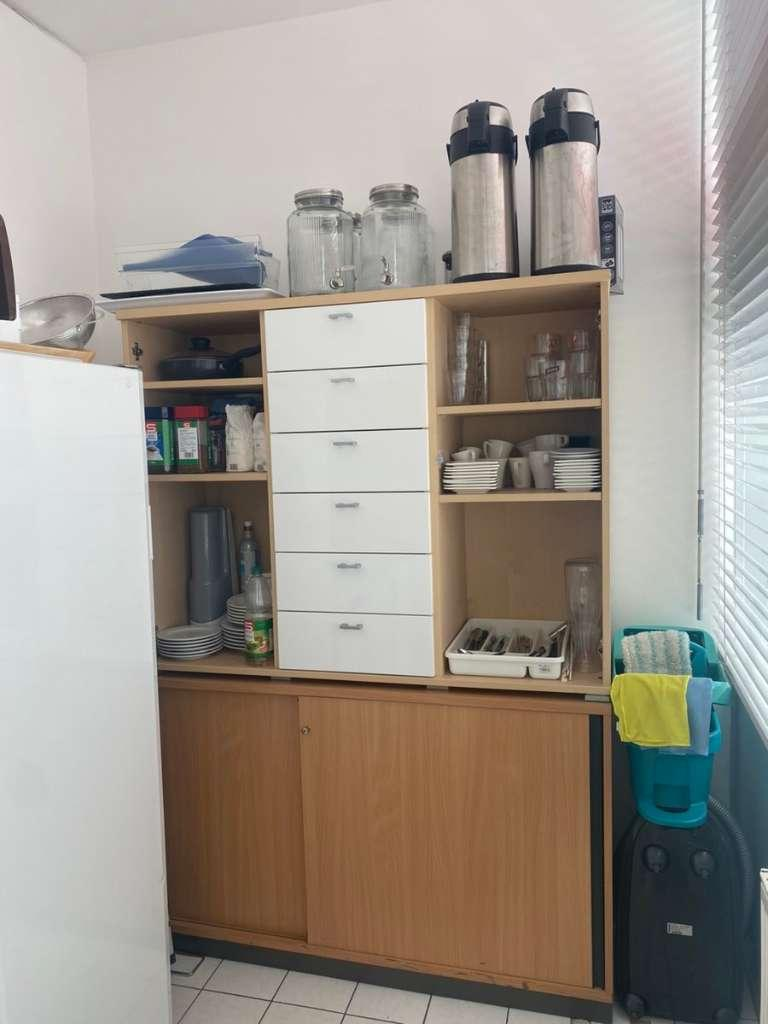cabinet_door: (299, 700, 589, 956), (167, 699, 302, 934), (273, 307, 423, 370), (280, 550, 429, 611), (273, 365, 422, 426), (281, 605, 431, 665), (278, 428, 428, 488), (277, 494, 426, 554)
handle: (326, 369, 359, 395), (329, 433, 360, 457), (334, 555, 361, 579), (333, 496, 361, 518), (336, 616, 364, 638), (327, 305, 355, 326), (299, 720, 314, 742)
